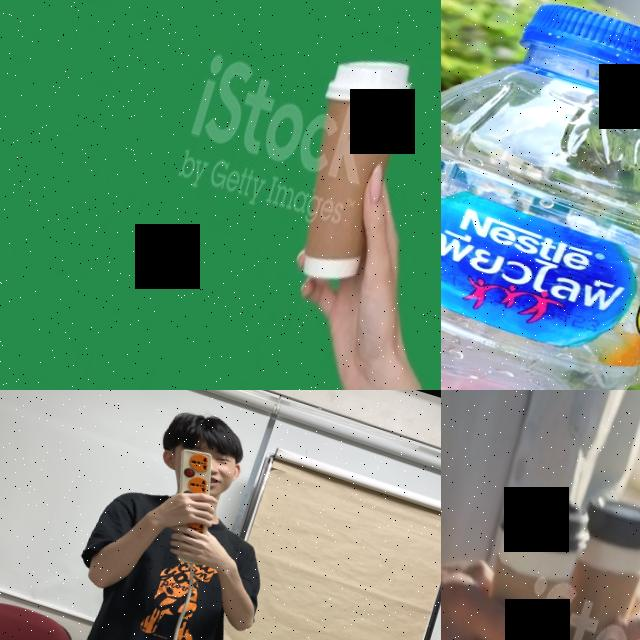bottle: (441, 0, 640, 390)
cup: (270, 43, 430, 300), (455, 479, 598, 640), (542, 486, 640, 640)
